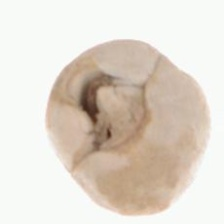L3: (72, 75, 150, 154)
L4: (45, 39, 210, 216)
